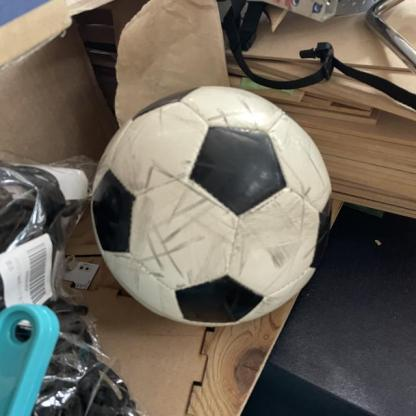ball: (88, 85, 333, 328)
